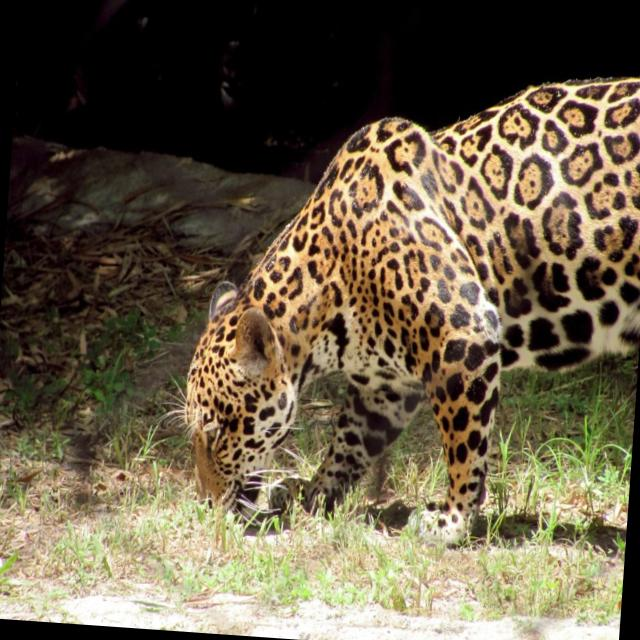cheetah: (88, 87, 586, 572)
